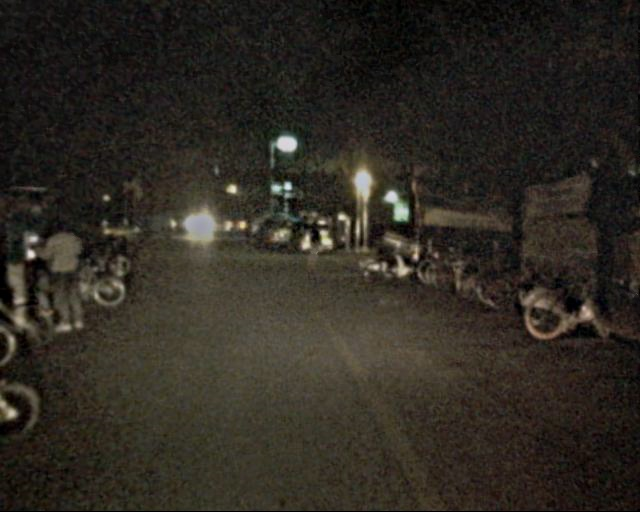person: (44, 213, 94, 335), (303, 224, 325, 268), (240, 220, 252, 249)
